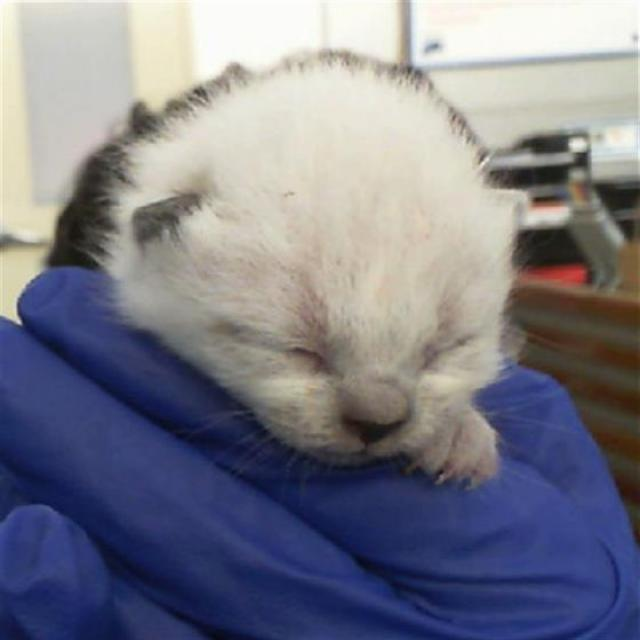siamese_cat: (66, 48, 553, 501)
